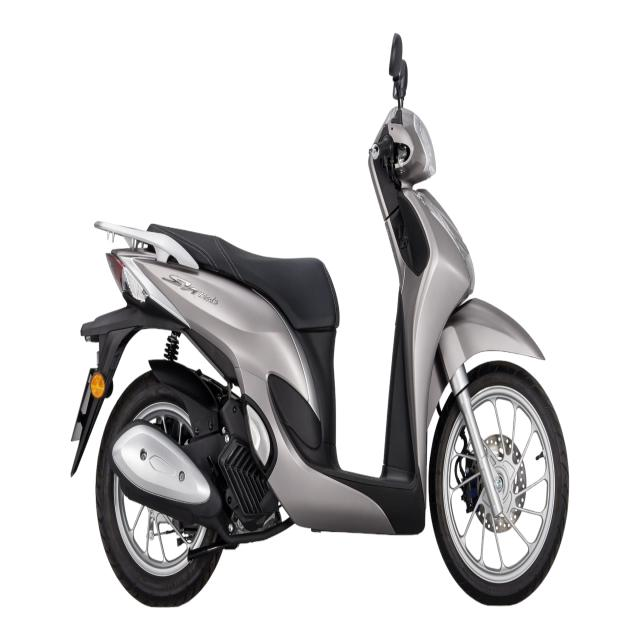Motorcycle: (70, 35, 570, 606)
